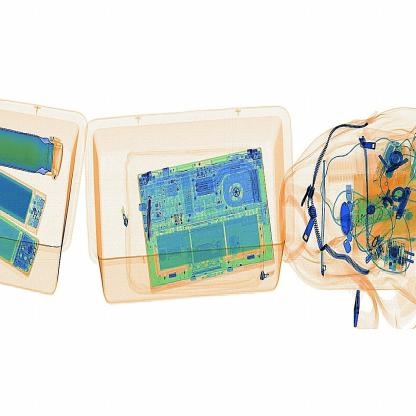knife: (140, 190, 166, 245)
